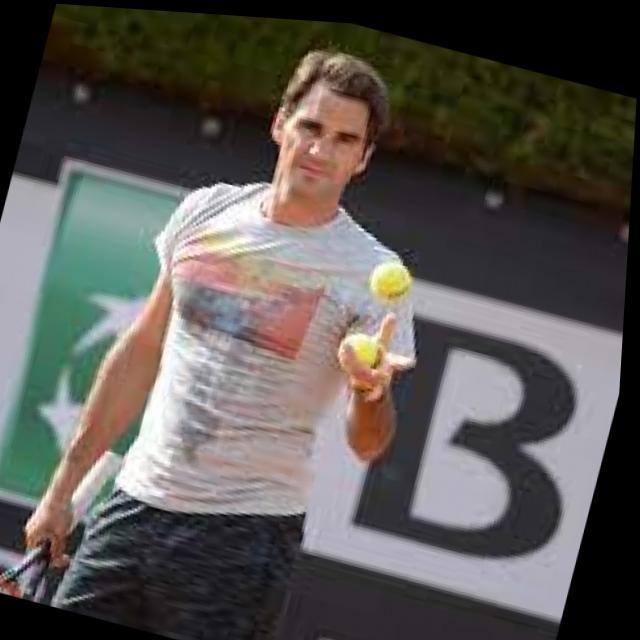Nonhelmet: (262, 44, 393, 212)
